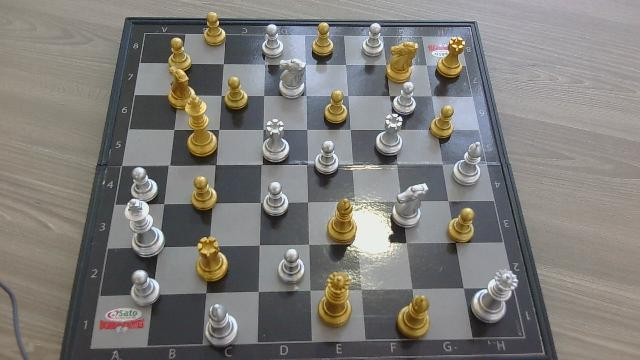black_bishop: (395, 291, 433, 340), (328, 197, 359, 245)
black_king: (184, 91, 219, 157)
black_knight: (386, 41, 420, 83), (165, 67, 194, 109)
black_pawn: (448, 207, 477, 245), (191, 175, 218, 213), (430, 104, 456, 140), (324, 90, 350, 125), (223, 77, 249, 111), (168, 36, 192, 72), (203, 12, 227, 47), (312, 22, 335, 58)
black_queen: (318, 271, 354, 327)
black_rook: (191, 233, 229, 280), (436, 36, 467, 78)
white_bishop: (203, 300, 238, 349), (454, 140, 485, 187)
white_king: (124, 198, 166, 259)
white_knight: (392, 182, 431, 230), (276, 57, 308, 100)
white_pawn: (130, 269, 162, 307), (278, 248, 307, 286), (263, 181, 291, 218), (131, 166, 159, 203), (315, 141, 339, 177), (261, 24, 285, 59), (394, 82, 417, 116), (363, 23, 384, 59)
white_queen: (472, 266, 521, 325)
white_rook: (259, 120, 293, 161), (376, 113, 403, 158)
